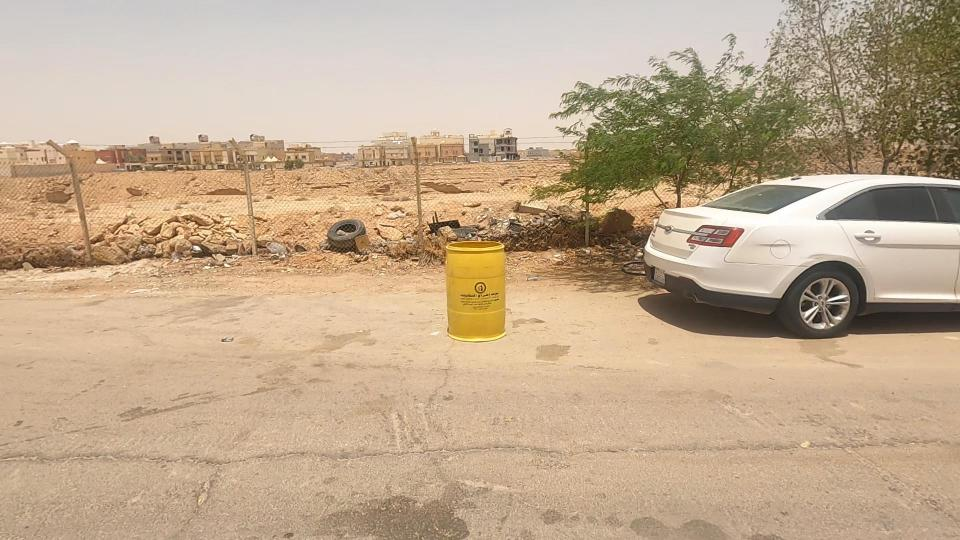GARBAGE: (273, 176, 415, 285), (394, 186, 512, 266), (469, 181, 570, 256), (235, 214, 310, 292), (363, 176, 438, 238), (162, 223, 228, 280)
